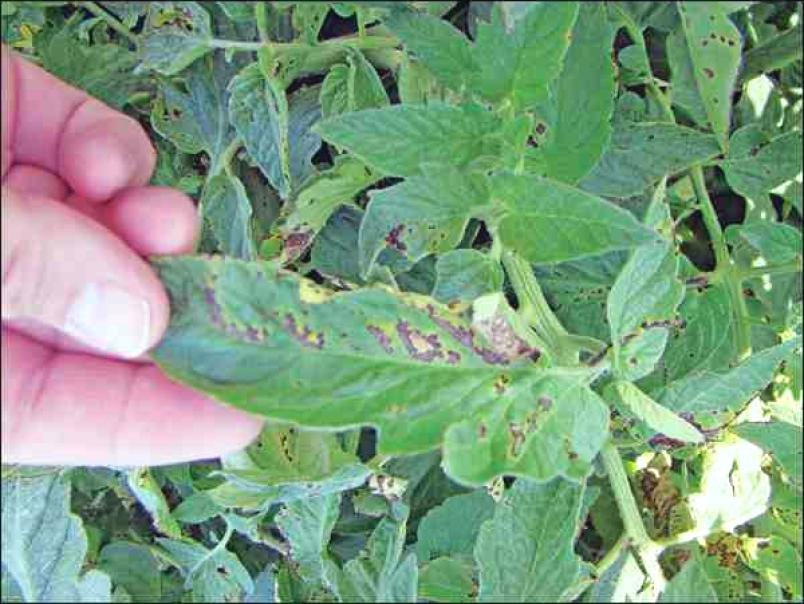Tomato leaf: (159, 258, 631, 491), (483, 171, 674, 261), (315, 105, 479, 167), (386, 6, 489, 91)
